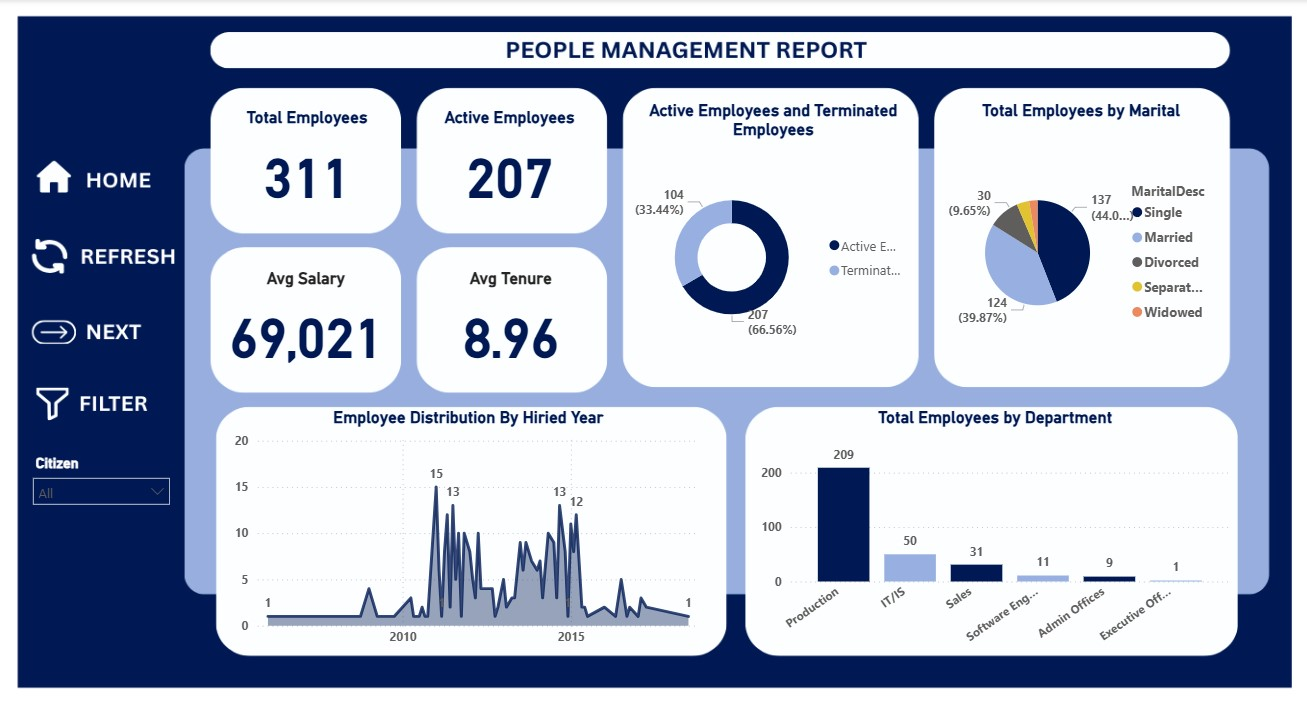

What the dashboard file says about the page in this screenshot:
{"tool":"powerbi","page":{"name":"Page 1","canvas":[1340,720],"ordinal":0},"visuals":[{"type":"card","title":"Total Employees","fields":{"Values":["measures (2).Total Employees"]},"box":[237.7,111,155,110],"z":0},{"type":"card","title":"Active Employees","fields":{"Values":["measures (2).Active Employees"]},"box":[444.1,111,155.2,109.6],"z":1000},{"type":"card","title":"Avg Salary","fields":{"Values":["measures (2).Average Salary"]},"box":[230.6,274.7,167,109.6],"z":2000},{"type":"card","title":"Avg Tenure","fields":{"Values":["measures (2).Average Tenure"]},"box":[445.5,274.7,155.2,109.6],"z":3000},{"type":"donutChart","fields":{"Y":["measures (2).Active Employees","measures (2).Terminated Employees"]},"box":[644.8,103.9,291.8,280.4],"z":4000},{"type":"pieChart","title":"Total Employees by Marital","fields":{"Y":["measures (2).Total Employees"],"Category":["HRDataset_v14.MaritalDesc"]},"box":[959.4,103.9,290.4,290.4],"z":5000},{"type":"lineChart","title":"Employee Distribution By Hiried Year","fields":{"Category":["HRDataset_v14.DateofHire.Variation.Date Hierarchy.Year","HRDataset_v14.DateofHire.Variation.Date Hierarchy.Month"],"Y":["measures (2).Total Employees"]},"box":[236.3,417.1,486.8,252],"z":6000},{"type":"columnChart","title":"Total Employees by Department","fields":{"Category":["HRDataset_v14.Department"],"Y":["measures (2).Total Employees"]},"box":[772.9,417.1,488.2,252],"z":7000},{"type":"slicer","fields":{"Values":["HRDataset_v14.CitizenDesc"]},"box":[25.6,459.8,159.4,99.6],"z":8000},{"type":"actionButton","box":[25.2,156.7,159.5,50.4],"z":8001},{"type":"actionButton","box":[25.2,309.2,159.5,50.4],"z":8002},{"type":"actionButton","box":[25.2,230.9,159.5,63],"z":8003}]}

Visuals, with their boxes in screenshot pixels (x1, y1, x2, y2), scaled from the page's 1340x720 canvas onto the 1307x702 screenshot:
"Total Employees" card: {"x1": 232, "y1": 108, "x2": 383, "y2": 215}
"Active Employees" card: {"x1": 433, "y1": 108, "x2": 585, "y2": 215}
"Avg Salary" card: {"x1": 225, "y1": 268, "x2": 388, "y2": 375}
"Avg Tenure" card: {"x1": 435, "y1": 268, "x2": 586, "y2": 375}
donutChart - measures (2).Active Employees x measures (2).Terminated Employees: {"x1": 629, "y1": 101, "x2": 914, "y2": 375}
"Total Employees by Marital" pieChart: {"x1": 936, "y1": 101, "x2": 1219, "y2": 384}
"Employee Distribution By Hiried Year" lineChart: {"x1": 230, "y1": 407, "x2": 705, "y2": 652}
"Total Employees by Department" columnChart: {"x1": 754, "y1": 407, "x2": 1230, "y2": 652}
slicer - HRDataset_v14.CitizenDesc: {"x1": 25, "y1": 448, "x2": 180, "y2": 545}
actionButton: {"x1": 25, "y1": 153, "x2": 180, "y2": 202}
actionButton: {"x1": 25, "y1": 301, "x2": 180, "y2": 351}
actionButton: {"x1": 25, "y1": 225, "x2": 180, "y2": 287}
